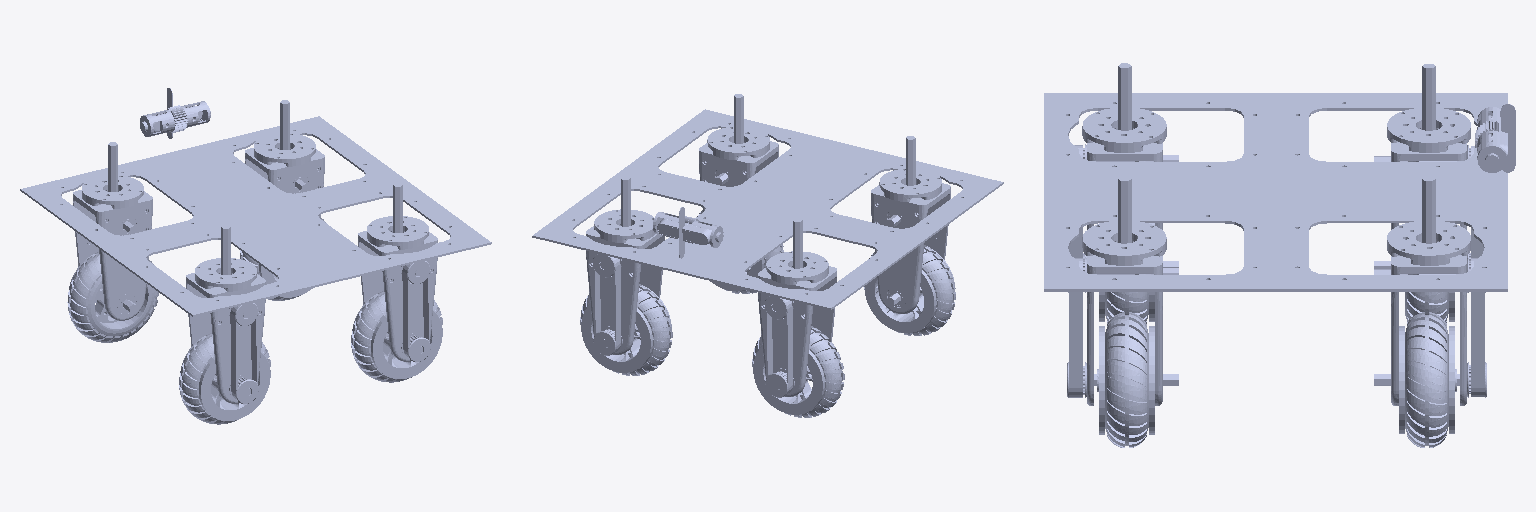
URDF robot description (hermes_robot_description):
<?xml version="1.0" encoding="utf-8"?>
<!-- This URDF was automatically created by SolidWorks to URDF Exporter! Originally created by
[author] ([email redacted]) 
     Commit Version: 1.6.0-4-g7f85cfe  Build Version: 1.6.7995.38578
     For more information, please see http://wiki.ros.org/sw_urdf_exporter -->
<robot
  name="hermes_robot_description">
  <!-- Base Footprint -->
  <joint name="base_footprint_joint" type="fixed">
    <parent link="base_footprint" />
    <child link="base_link" />
    <origin xyz="0 0 0" rpy="0 0 0" />
  </joint>
  <link name="base_footprint">
  </link>
  <!-- End of Base Footprint -->
  <link
    name="base_link">
    <inertial>
      <origin
        xyz="-1.80421111791828E-05 0.00268094779536828 0.0437561412092304"
        rpy="0 0 0" />
      <mass
        value="5.83594079476047" />
      <inertia
        ixx="0.0262319829443243"
        ixy="2.75289714906734E-06"
        ixz="1.56106766906076E-09"
        iyy="0.0221067059512389"
        iyz="1.52879510210917E-09"
        izz="0.0463251880864419" />
    </inertial>
    <visual>
      <origin
        xyz="0 0 0"
        rpy="0 0 0" />
      <geometry>
        <mesh
          filename="package://hermes_robot_description/meshes/base_link.STL" />
      </geometry>
      <material
        name="">
        <color
          rgba="0.792156862745098 0.819607843137255 0.933333333333333 1" />
      </material>
    </visual>
    <collision>
      <origin
        xyz="0 0 0"
        rpy="0 0 0" />
      <geometry>
        <mesh
          filename="package://hermes_robot_description/meshes/base_link.STL" />
      </geometry>
    </collision>
  </link>
  <link
    name="Revolve1">
    <inertial>
      <origin
        xyz="-0.000145935398461222 0.00330398152840952 -0.129360241681652"
        rpy="0 0 0" />
      <mass
        value="0.360615733425911" />
      <inertia
        ixx="0.00101198014035825"
        ixy="5.75831548277664E-10"
        ixz="-3.12909951033116E-07"
        iyy="0.000866438904328317"
        iyz="-4.86740952794805E-08"
        izz="0.000498207922386959" />
    </inertial>
    <visual>
      <origin
        xyz="0 0 0"
        rpy="0 0 0" />
      <geometry>
        <mesh
          filename="package://hermes_robot_description/meshes/Revolve1.STL" />
      </geometry>
      <material
        name="">
        <color
          rgba="0.792156862745098 0.819607843137255 0.933333333333333 1" />
      </material>
    </visual>
    <collision>
      <origin
        xyz="0 0 0"
        rpy="0 0 0" />
      <geometry>
        <mesh
          filename="package://hermes_robot_description/meshes/Revolve1.STL" />
      </geometry>
    </collision>
  </link>
  <joint
    name="Joint_Revolve1"
    type="continuous">
    <origin
      xyz="0.142812746894597 0.162367298941792 0.08088652171668"
      rpy="0 0 0" />
    <parent
      link="base_link" />
    <child
      link="Revolve1" />
    <axis
      xyz="0 0 1" />
    <limit
      lower="-6.28"
      upper="6.28"
      effort="50"
      velocity="20" />
  </joint>
  <link
    name="Drive1">
    <inertial>
      <origin
        xyz="-0.000226014040947464 0.0569137014546137 -0.000410926178318616"
        rpy="0 0 0" />
      <mass
        value="0.63490888023755" />
      <inertia
        ixx="0.000875571090230351"
        ixy="3.28321234136945E-10"
        ixz="3.82111291760209E-07"
        iyy="0.00157016076845386"
        iyz="-1.86508941670254E-10"
        izz="0.000876108829479962" />
    </inertial>
    <visual>
      <origin
        xyz="0 0 0"
        rpy="0 0 0" />
      <geometry>
        <mesh
          filename="package://hermes_robot_description/meshes/Drive1.STL" />
      </geometry>
      <material
        name="">
        <color
          rgba="0.792156862745098 0.819607843137255 0.933333333333333 1" />
      </material>
    </visual>
    <collision>
      <origin
        xyz="0 0 0"
        rpy="0 0 0" />
      <geometry>
        <mesh
          filename="package://hermes_robot_description/meshes/Drive1.STL" />
      </geometry>
    </collision>
  </link>
  <joint
    name="Joint_Drive1"
    type="continuous">
    <origin
      xyz="-3.1376E-05 -0.058217 -0.23703"
      rpy="0 0 0" />
    <parent
      link="Revolve1" />
    <child
      link="Drive1" />
    <axis
      xyz="0 1 0" />
    <limit
      lower="0"
      upper="0"
      effort="50"
      velocity="20" />
  </joint>
  <link
    name="Revolve2">
    <inertial>
      <origin
        xyz="0.000145747489205095 -0.00293240264314648 -0.129541859145821"
        rpy="0 0 0" />
      <mass
        value="0.356629563614929" />
      <inertia
        ixx="0.00101170361843526"
        ixy="5.7579049219871E-10"
        ixz="3.12909949669665E-07"
        iyy="0.000865926542485455"
        iyz="4.8674230595363E-08"
        izz="0.000497931400463137" />
    </inertial>
    <visual>
      <origin
        xyz="0 0 0"
        rpy="0 0 0" />
      <geometry>
        <mesh
          filename="package://hermes_robot_description/meshes/Revolve2.STL" />
      </geometry>
      <material
        name="">
        <color
          rgba="0.792156862745098 0.819607843137255 0.933333333333333 1" />
      </material>
    </visual>
    <collision>
      <origin
        xyz="0 0 0"
        rpy="0 0 0" />
      <geometry>
        <mesh
          filename="package://hermes_robot_description/meshes/Revolve2.STL" />
      </geometry>
    </collision>
  </link>
  <joint
    name="Joint_Revolve2"
    type="continuous">
    <origin
      xyz="0.142487253090968 -0.162367299013263 0.0808865217165857"
      rpy="0 0 0" />
    <parent
      link="base_link" />
    <child
      link="Revolve2" />
    <axis
      xyz="0 0 1" />
    <limit
      lower="-6.28"
      upper="6.28"
      effort="50"
      velocity="20" />
  </joint>
  <link
    name="Drive2">
    <inertial>
      <origin
        xyz="0.000226014040947381 0.0630862985453863 -0.000410926178318644"
        rpy="0 0 0" />
      <mass
        value="0.634908880237552" />
      <inertia
        ixx="0.000875571090230353"
        ixy="3.28321234625112E-10"
        ixz="-3.82111291760149E-07"
        iyy="0.00157016076845386"
        iyz="1.86508939268083E-10"
        izz="0.000876108829479964" />
    </inertial>
    <visual>
      <origin
        xyz="0 0 0"
        rpy="0 0 0" />
      <geometry>
        <mesh
          filename="package://hermes_robot_description/meshes/Drive2.STL" />
      </geometry>
      <material
        name="">
        <color
          rgba="0.792156862745098 0.819607843137255 0.933333333333333 1" />
      </material>
    </visual>
    <collision>
      <origin
        xyz="0 0 0"
        rpy="0 0 0" />
      <geometry>
        <mesh
          filename="package://hermes_robot_description/meshes/Drive2.STL" />
      </geometry>
    </collision>
  </link>
  <joint
    name="Joint_Drive2"
    type="continuous">
    <origin
      xyz="3.1376E-05 -0.061783 -0.23703"
      rpy="0 0 0" />
    <parent
      link="Revolve2" />
    <child
      link="Drive2" />
    <axis
      xyz="0 1 0" />
    <limit
      lower="0"
      upper="0"
      effort="50"
      velocity="20" />
  </joint>
  <link
    name="Revolve3">
    <inertial>
      <origin
        xyz="0.000145935393864483 -0.00330398152840003 -0.129360241681641"
        rpy="0 0 0" />
      <mass
        value="0.360615733426176" />
      <inertia
        ixx="0.00101198014035924"
        ixy="5.75779517259195E-10"
        ixz="3.12909947056294E-07"
        iyy="0.000866438904328555"
        iyz="4.8674094957309E-08"
        izz="0.000498207922387442" />
    </inertial>
    <visual>
      <origin
        xyz="0 0 0"
        rpy="0 0 0" />
      <geometry>
        <mesh
          filename="package://hermes_robot_description/meshes/Revolve3.STL" />
      </geometry>
      <material
        name="">
        <color
          rgba="0.792156862745098 0.819607843137255 0.933333333333333 1" />
      </material>
    </visual>
    <collision>
      <origin
        xyz="0 0 0"
        rpy="0 0 0" />
      <geometry>
        <mesh
          filename="package://hermes_robot_description/meshes/Revolve3.STL" />
      </geometry>
    </collision>
  </link>
  <joint
    name="Joint_Revolve3"
    type="continuous">
    <origin
      xyz="-0.142812747074693 -0.16236729862736 0.0808865217165849"
      rpy="0 0 0" />
    <parent
      link="base_link" />
    <child
      link="Revolve3" />
    <axis
      xyz="0 0 1" />
    <limit
      lower="-6.28"
      upper="6.28"
      effort="50"
      velocity="20" />
  </joint>
  <link
    name="Drive3">
    <inertial>
      <origin
        xyz="0.000226014040947436 0.0630862985453863 -0.00041092617831856"
        rpy="0 0 0" />
      <mass
        value="0.634908880237551" />
      <inertia
        ixx="0.000875571090230351"
        ixy="3.28321234455008E-10"
        ixz="-3.82111291760646E-07"
        iyy="0.00157016076845386"
        iyz="1.86508939175226E-10"
        izz="0.000876108829479963" />
    </inertial>
    <visual>
      <origin
        xyz="0 0 0"
        rpy="0 0 0" />
      <geometry>
        <mesh
          filename="package://hermes_robot_description/meshes/Drive3.STL" />
      </geometry>
      <material
        name="">
        <color
          rgba="0.792156862745098 0.819607843137255 0.933333333333333 1" />
      </material>
    </visual>
    <collision>
      <origin
        xyz="0 0 0"
        rpy="0 0 0" />
      <geometry>
        <mesh
          filename="package://hermes_robot_description/meshes/Drive3.STL" />
      </geometry>
    </collision>
  </link>
  <joint
    name="Joint_Drive3"
    type="continuous">
    <origin
      xyz="3.1376E-05 -0.061783 -0.23703"
      rpy="0 0 0" />
    <parent
      link="Revolve3" />
    <child
      link="Drive3" />
    <axis
      xyz="0 1 0" />
    <limit
      lower="0"
      upper="0"
      effort="50"
      velocity="20" />
  </joint>
  <link
    name="Revolve4">
    <inertial>
      <origin
        xyz="-0.000145747489922687 0.00293240264333319 -0.129541859145822"
        rpy="0 0 0" />
      <mass
        value="0.356629563614922" />
      <inertia
        ixx="0.00101170361843491"
        ixy="5.75782004158014E-10"
        ixz="-3.12909950354433E-07"
        iyy="0.000865926542485779"
        iyz="-4.86742305847818E-08"
        izz="0.000497931400463125" />
    </inertial>
    <visual>
      <origin
        xyz="0 0 0"
        rpy="0 0 0" />
      <geometry>
        <mesh
          filename="package://hermes_robot_description/meshes/Revolve4.STL" />
      </geometry>
      <material
        name="">
        <color
          rgba="0.792156862745098 0.819607843137255 0.933333333333333 1" />
      </material>
    </visual>
    <collision>
      <origin
        xyz="0 0 0"
        rpy="0 0 0" />
      <geometry>
        <mesh
          filename="package://hermes_robot_description/meshes/Revolve4.STL" />
      </geometry>
    </collision>
  </link>
  <joint
    name="Joint_Revolve4"
    type="continuous">
    <origin
      xyz="-0.14249 0.16237 0.080887"
      rpy="0 0 0" />
    <parent
      link="base_link" />
    <child
      link="Revolve4" />
    <axis
      xyz="0 0 1" />
    <limit
      lower="-6.28"
      upper="6.28"
      effort="50"
      velocity="20" />
  </joint>
  <link
    name="Drive4">
    <inertial>
      <origin
        xyz="-0.000220556953201112 0.0608746936394271 -0.000394638722706259"
        rpy="0 0 0" />
      <mass
        value="0.516814718226391" />
      <inertia
        ixx="0.000778342323598232"
        ixy="-6.79583691505191E-08"
        ixz="1.91030313347439E-07"
        iyy="0.00139495120008227"
        iyz="-1.31296817796916E-07"
        izz="0.000778611296294089" />
    </inertial>
    <visual>
      <origin
        xyz="0 0 0"
        rpy="0 0 0" />
      <geometry>
        <mesh
          filename="package://hermes_robot_description/meshes/Drive4.STL" />
      </geometry>
      <material
        name="">
        <color
          rgba="0.792156862745098 0.819607843137255 0.933333333333333 1" />
      </material>
    </visual>
    <collision>
      <origin
        xyz="0 0 0"
        rpy="0 0 0" />
      <geometry>
        <mesh
          filename="package://hermes_robot_description/meshes/Drive4.STL" />
      </geometry>
    </collision>
  </link>
  <joint
    name="Joint_Drive4"
    type="continuous">
    <origin
      xyz="-3.13759120330326E-05 -0.0582172989418 -0.237027607087663"
      rpy="0 0 0" />
    <parent
      link="Revolve4" />
    <child
      link="Drive4" />
    <axis
      xyz="0 1 0" />
    <limit
      lower="0"
      upper="0"
      effort="50"
      velocity="20" />
  </joint>
  <link
    name="Camera_pivot">
    <inertial>
      <origin
        xyz="-0.0555938848411197 0.000418614354003283 -0.00327348513176723"
        rpy="0 0 0" />
      <mass
        value="1.2878670523968" />
      <inertia
        ixx="0.000117585935949458"
        ixy="-1.49741441165642E-06"
        ixz="1.12423158524668E-05"
        iyy="0.000794899141050403"
        iyz="7.61075263134134E-07"
        izz="0.000787886593810218" />
    </inertial>
    <visual>
      <origin
        xyz="0 0 0"
        rpy="0 0 0" />
      <geometry>
        <mesh
          filename="package://hermes_robot_description/meshes/Camera_pivot.STL" />
      </geometry>
      <material
        name="">
        <color
          rgba="0.792156862745098 0.819607843137255 0.933333333333333 1" />
      </material>
    </visual>
    <collision>
      <origin
        xyz="0 0 0"
        rpy="0 0 0" />
      <geometry>
        <mesh
          filename="package://hermes_robot_description/meshes/Camera_pivot.STL" />
      </geometry>
    </collision>
  </link>
  <joint
    name="Camera_pivot_joint"
    type="revolute">
    <origin
      xyz="0.0543500000000001 0.230150000000001 0.0600000000000003"
      rpy="1.5707963267949 0 0" />
    <parent
      link="base_link" />
    <child
      link="Camera_pivot" />
    <axis
      xyz="1 0 0" />
    <limit
      lower="0"
      upper="0"
      effort="20"
      velocity="10" />
  </joint>
  <link
    name="CameraVisionLink">
    <inertial>
      <origin
        xyz="-3.83807569059869E-17 -6.77896212537346E-05 -0.000495383252896442"
        rpy="0 0 0" />
      <mass
        value="0.00122306679751053" />
      <inertia
        ixx="2.45260777746173E-08"
        ixy="1.49835825799552E-22"
        ixz="-7.43449114089117E-22"
        iyy="6.15023324061756E-07"
        iyz="3.26714169017072E-09"
        izz="6.38451387870187E-07" />
    </inertial>
    <visual>
      <origin
        xyz="0 0 0"
        rpy="0 0 0" />
      <geometry>
        <mesh
          filename="package://hermes_robot_description/meshes/CameraVision.STL" />
      </geometry>
      <material
        name="">
        <color
          rgba="0.792156862745098 0.819607843137255 0.933333333333333 1" />
      </material>
    </visual>
    <collision>
      <origin
        xyz="0 0 0"
        rpy="0 0 0" />
      <geometry>
        <mesh
          filename="package://hermes_robot_description/meshes/CameraVision.STL" />
      </geometry>
    </collision>


  </link>

  <!-- Sensors -->
  <gazebo reference="Camera_pivot">
    <sensor name="camera" type="camera">
      <pose>0 0 0 -1.57 -1.57 0</pose>
      <topic>image_raw</topic>
      <always_on>true</always_on>
      <update_rate>10</update_rate>
      <camera>
        <horizontal_fov>1.047</horizontal_fov>
        <image>
          <width>800</width>
          <height>600</height>
          <format>R8G8B8</format>
        </image>
        <clip>
          <near>0.1</near>
          <far>100</far>
        </clip>
      </camera>
    </sensor>

    <sensor name="depth_camera" type="depth">
      <pose>0 0 0 -1.57 1.57 0</pose>
      <always_on>true</always_on>
      <update_rate>10</update_rate>
      <camera>
        <horizontal_fov>1.047</horizontal_fov>
        <image>
          <width>800</width>
          <height>600</height>
          <format>R8G8B8</format>
        </image>
        <clip>
          <near>0.1</near>
          <far>100</far>
        </clip>
      </camera>
    </sensor>
  </gazebo>


  <joint
    name="CameraVisionJoint"
    type="fixed">
    <origin
      xyz="-0.0544999999999996 0.00230701639050734 -0.0168588828625726"
      rpy="3.14159265358979 0 3.14159265358979" />
    <parent
      link="Camera_pivot" />
    <child
      link="CameraVisionLink" />
    <axis
      xyz="0 0 0" />
    <limit
      effort="20"
      velocity="10" />
  </joint>

  <!-- ####################### Plugin Section ######################### -->

  <gazebo>


    <plugin
      filename="gz-sim-joint-state-publisher-system"
      name="gz::sim::systems::JointStatePublisher">
    </plugin>

    <plugin
      filename="gz-sim-pose-publisher-system"
      name="gz::sim::systems::PosePublisher">
      <publish_link_pose>true</publish_link_pose>
      <use_pose_vector_msg>true</use_pose_vector_msg>
      <static_publisher>true</static_publisher>
      <static_update_frequency>1</static_update_frequency>
    </plugin>

    <!--  Drive motor joint controllers -->
    <plugin
      filename="gz-sim-joint-position-controller-system"
      name="gz::sim::systems::JointPositionController">
      <joint_name>Joint_Drive1</joint_name>
      <topic>/drive/1/command</topic>
      <p_gain>1</p_gain>
      <i_gain>0.1</i_gain>
      <d_gain>0.01</d_gain>
      <i_max>1</i_max>
      <i_min>-1</i_min>
      <cmd_max>6.28</cmd_max>
      <cmd_min>-6.28</cmd_min>
    </plugin>

    <plugin
      filename="gz-sim-joint-position-controller-system"
      name="gz::sim::systems::JointPositionController">
      <topic>/drive/2/command</topic>
      <joint_name>Joint_Drive2</joint_name>
      <p_gain>1</p_gain>
      <i_gain>0.1</i_gain>
      <d_gain>0.01</d_gain>
      <i_max>1</i_max>
      <i_min>-1</i_min>
      <cmd_max>6.28</cmd_max>
      <cmd_min>-6.28</cmd_min>
    </plugin>

    <plugin
      filename="gz-sim-joint-position-controller-system"
      name="gz::sim::systems::JointPositionController">
      <joint_name>Joint_Drive3</joint_name>
      <topic>/drive/3/command</topic>
      <p_gain>1</p_gain>
      <i_gain>0.1</i_gain>
      <d_gain>0.01</d_gain>
      <i_max>1</i_max>
      <i_min>-1</i_min>
      <cmd_max>6.28</cmd_max>
      <cmd_min>-6.28</cmd_min>
    </plugin>

    <plugin
      filename="gz-sim-joint-position-controller-system"
      name="gz::sim::systems::JointPositionController">
      <joint_name>Joint_Drive4</joint_name>
      <topic>/drive/4/command</topic>
      <p_gain>1</p_gain>
      <i_gain>0.1</i_gain>
      <d_gain>0.01</d_gain>
      <i_max>1</i_max>
      <i_min>-1</i_min>
      <cmd_max>6.28</cmd_max>
      <cmd_min>-6.28</cmd_min>
    </plugin>

    <!-- Position Controllers -->

    <plugin
      filename="gz-sim-joint-position-controller-system"
      name="gz::sim::systems::JointPositionController">
      <joint_name>Joint_Revolve1</joint_name>
      <topic>/pivot/1/command</topic>
      <p_gain>1</p_gain>
      <i_gain>0.1</i_gain>
      <d_gain>0.01</d_gain>
      <i_max>1</i_max>
      <i_min>-1</i_min>
      <cmd_max>6.28</cmd_max>
      <cmd_min>-6.28</cmd_min>
    </plugin>

    <plugin
      filename="gz-sim-joint-position-controller-system"
      name="gz::sim::systems::JointPositionController">
      <topic>/pivot/2/command</topic>
      <joint_name>Joint_Revolve2</joint_name>
      <p_gain>1</p_gain>
      <i_gain>0.1</i_gain>
      <d_gain>0.01</d_gain>
      <i_max>1</i_max>
      <i_min>-1</i_min>
      <cmd_max>6.28</cmd_max>
      <cmd_min>-6.28</cmd_min>
    </plugin>

    <plugin
      filename="gz-sim-joint-position-controller-system"
      name="gz::sim::systems::JointPositionController">
      <joint_name>Joint_Revolve3</joint_name>
      <topic>/pivot/3/command</topic>
      <p_gain>1</p_gain>
      <i_gain>0.1</i_gain>
      <d_gain>0.01</d_gain>
      <i_max>1</i_max>
      <i_min>-1</i_min>
      <cmd_max>6.28</cmd_max>
      <cmd_min>-6.28</cmd_min>
    </plugin>

    <plugin
      filename="gz-sim-joint-position-controller-system"
      name="gz::sim::systems::JointPositionController">
      <joint_name>Joint_Revolve4</joint_name>
      <topic>/pivot/4/command</topic>
      <p_gain>1</p_gain>
      <i_gain>0.1</i_gain>
      <d_gain>0.01</d_gain>
      <i_max>1</i_max>
      <i_min>-1</i_min>
      <cmd_max>6.28</cmd_max>
      <cmd_min>-6.28</cmd_min>
    </plugin>

    <plugin
      filename="gz-sim-joint-position-controller-system"
      name="gz::sim::systems::JointPositionController">
      <joint_name>Camera_pivot_joint</joint_name>
      <topic>/camera/pivot/command</topic>
      <p_gain>1</p_gain>
      <i_gain>0.1</i_gain>
      <d_gain>0.01</d_gain>
      <i_max>1</i_max>
      <i_min>-1</i_min>
      <cmd_max>6.28</cmd_max>
      <cmd_min>-6.28</cmd_min>
    </plugin>

    <plugin filename="gz-sim-imu-system"
      name="gz::sim::systems::Imu">
    </plugin>

  </gazebo>

</robot>

--- Render facts (derived) ---
Views: 3 orthographic renders of the robot side by side, from view 1: azimuth 30°, elevation 25°; view 2: azimuth 150°, elevation 25°; view 3: azimuth 270°, elevation 25°.
Robot: hermes_robot_description — 12 links, 11 joints (1 revolute, 8 continuous, 2 fixed); root link base_footprint; default pose: every joint at zero.
Links seen in each view (by area): view 1: base_link, Revolve3, Revolve2, Revolve4, Drive2, Drive3, Drive4, Revolve1, Camera_pivot; view 2: base_link, Revolve4, Revolve1, Revolve3, Drive1, Drive4, Drive3, Revolve2, Camera_pivot; view 3: base_link, Revolve2, Revolve1, Drive1, Drive2, Revolve3, Revolve4, Camera_pivot, Drive3, Drive4, CameraVisionLink.
Link boxes in pixels (x1,y1,x2,y2): base_link: (20,116,491,316); Revolve3: (186,225,265,403); Revolve2: (358,183,437,361); Revolve4: (73,142,152,320); Drive2: (351,291,442,382); Drive3: (179,333,270,424); Drive4: (67,252,158,342); Revolve1: (245,100,324,218); Camera_pivot: (140,101,210,136); base_link: (532,109,1003,309); Revolve4: (758,219,836,396); Revolve1: (586,177,664,354); Revolve3: (871,136,950,313); Drive1: (580,284,672,375); Drive4: (752,326,844,417); Drive3: (864,245,955,335); Revolve2: (699,94,778,211); Camera_pivot: (653,212,723,247); base_link: (1044,93,1507,291); Revolve2: (1068,176,1178,405); Revolve1: (1374,176,1485,405); Drive1: (1374,312,1486,447); Drive2: (1067,312,1178,447); Revolve3: (1069,63,1178,257); Revolve4: (1374,64,1483,257); Camera_pivot: (1475,107,1507,172); Drive3: (1083,223,1178,323); Drive4: (1374,223,1470,323); CameraVisionLink: (1501,104,1515,172).
Size in the robot's own frame: 0.4953 by 0.5031 by 0.3322 metres.
11 mesh visuals loaded from 11 distinct referenced files (11 binary STL).
